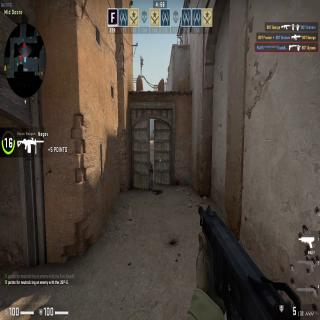CT-Body: (150, 160, 152, 190)
